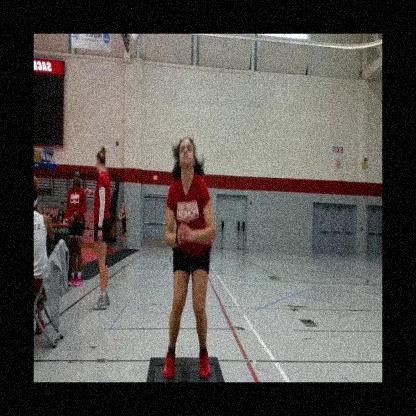lateral_flexion_left: (161, 130, 217, 382)
stance_width_normal: (161, 169, 217, 382)
